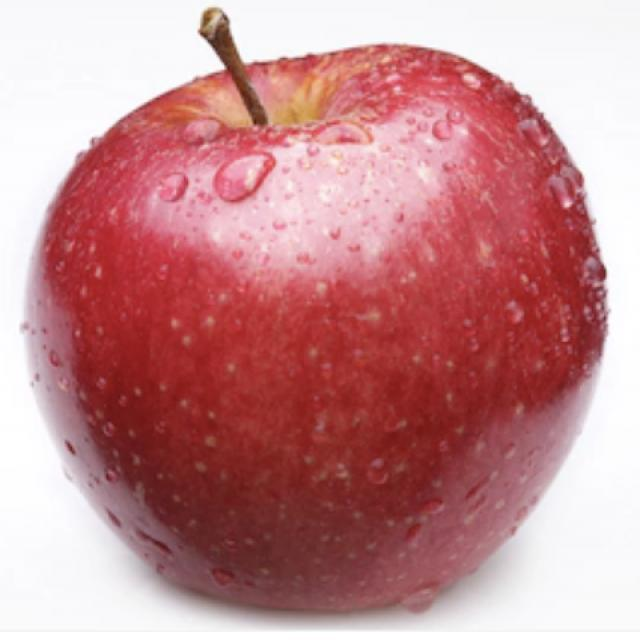Fresh Apple: (29, 48, 574, 627)
